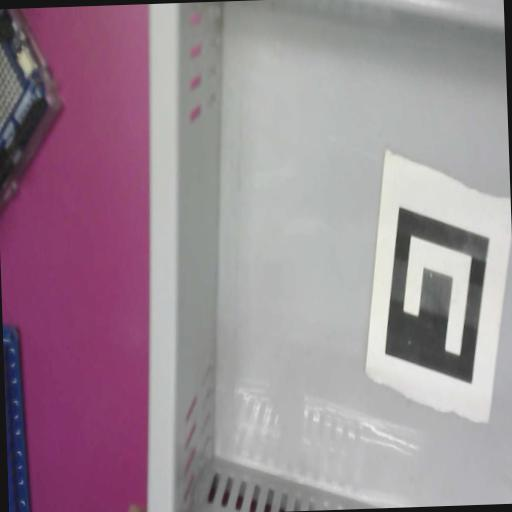QR: (357, 146, 512, 428)
